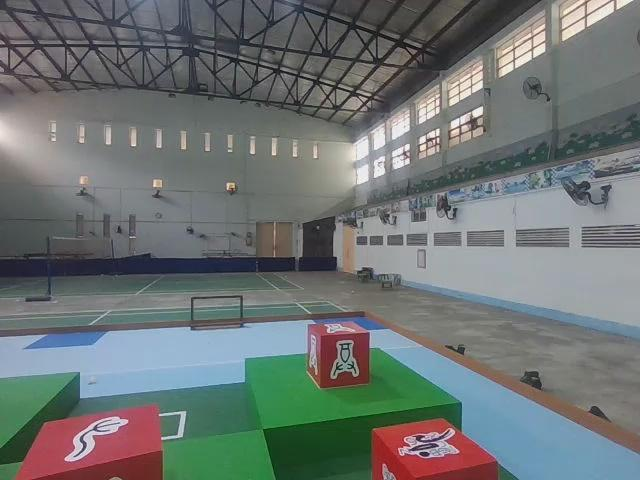R1: (368, 413, 500, 480)
R2 Real: (14, 400, 168, 480), (304, 320, 372, 391)
